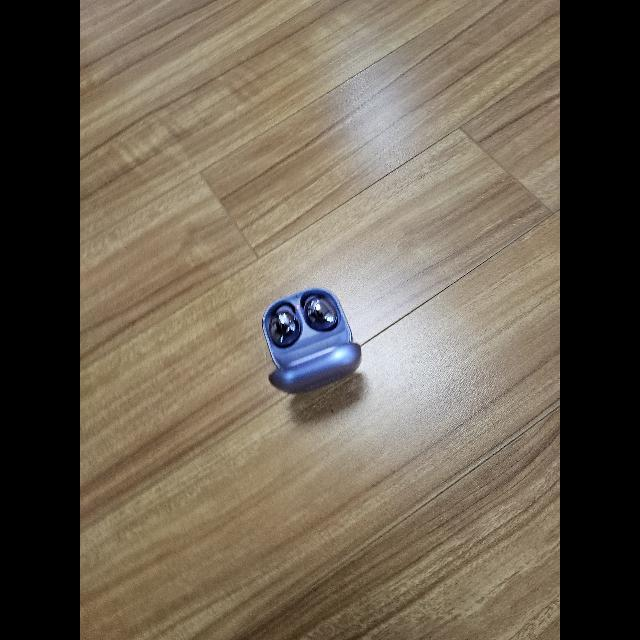buds-pro: (260, 286, 364, 398)
